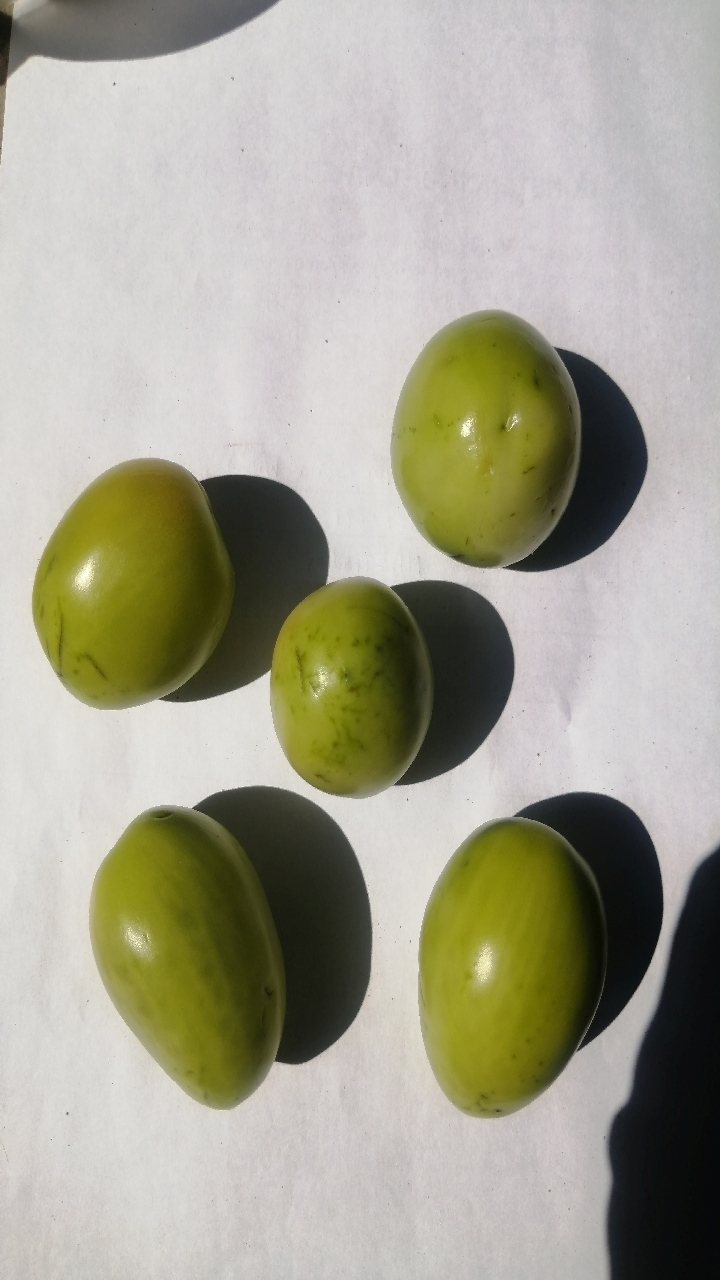tomateVerde: (374, 789, 617, 1148), (363, 280, 628, 591), (63, 772, 292, 1123), (18, 437, 248, 731), (248, 548, 452, 819)
